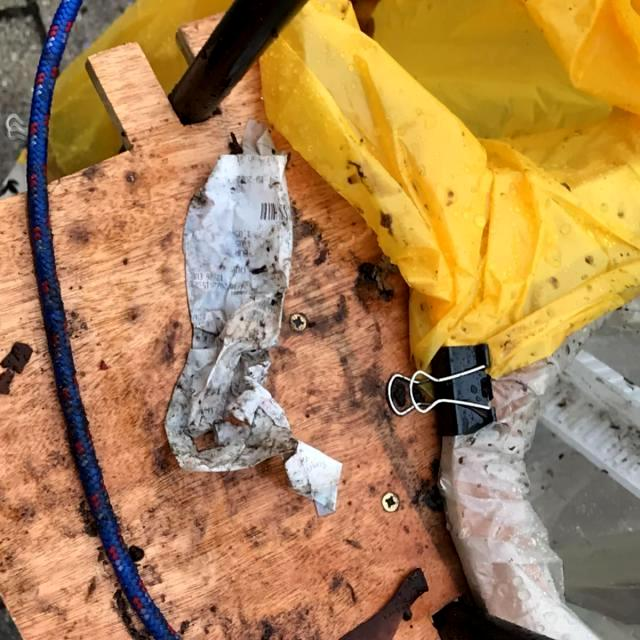Paper: (159, 116, 347, 516)
